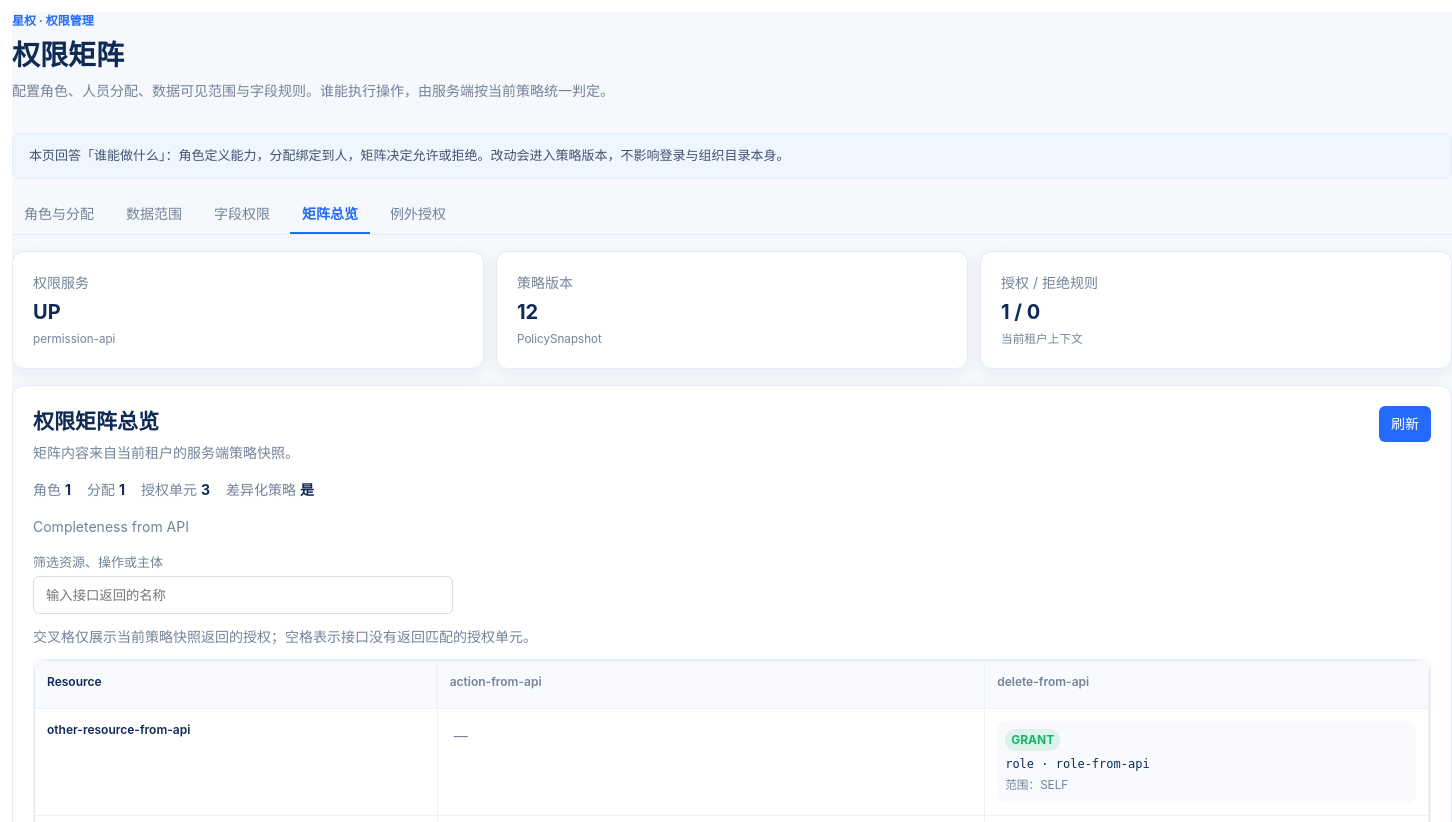
Test: P2 permissions management › renders returned grants as a searchable Resource × Action matrix without inventing codes
Expected: the table with test id "resource-action-table" shows "action-from-api", [450,674,542,689]
Expected: the table with test id "resource-action-table" shows "other-resource-from-api", [47,722,190,737]
Type "other-role-from-api" into the search field with test id "matrix-search" showing "筛选资源、操作或主体" at x=243, y=595, box [33,576,453,614]
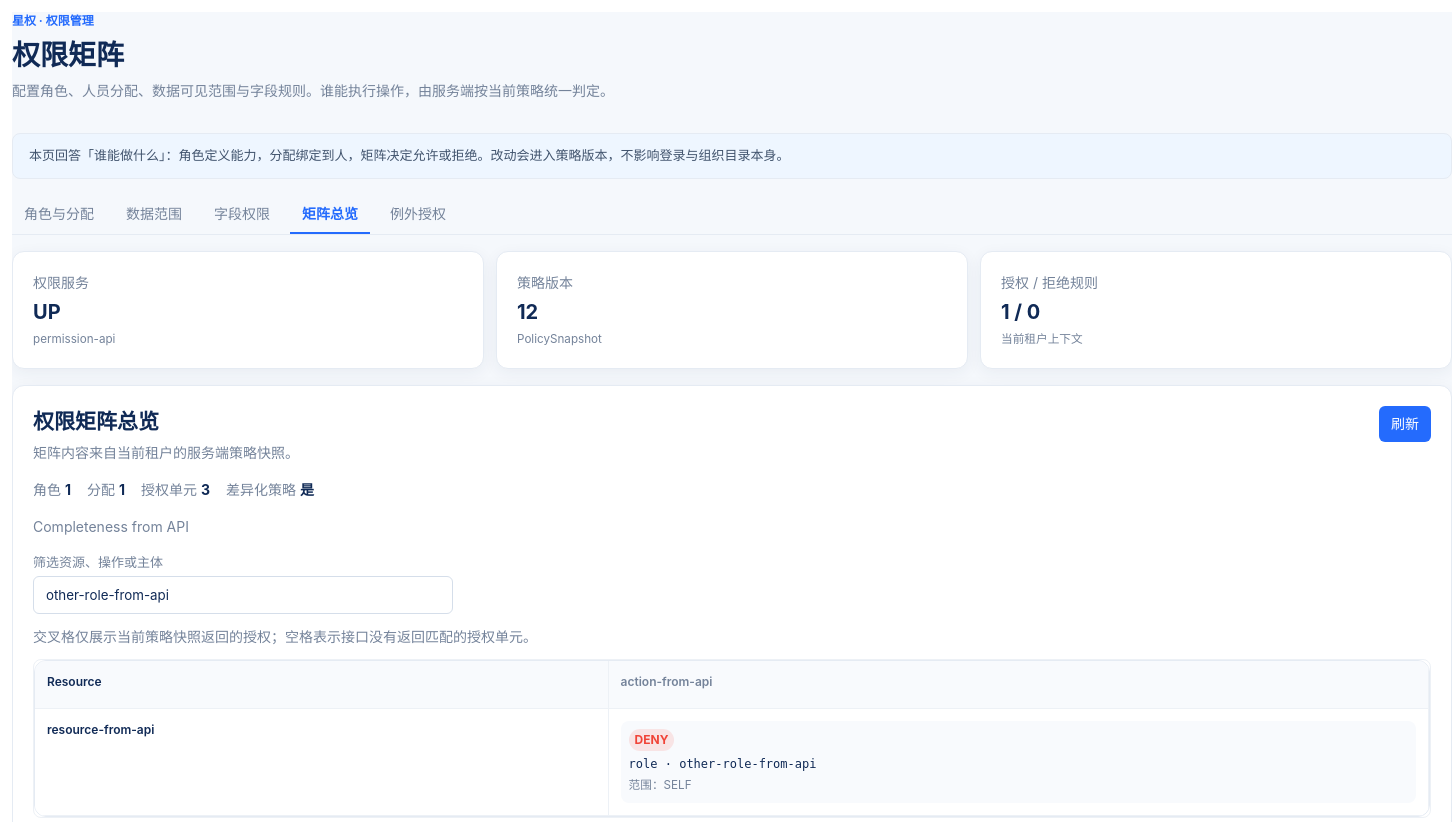
Expected: the table with test id "resource-action-table" shows "other-role-from-api", [629,757,816,771]
Now the text with test id "resource-action-table" no longer shows "GRANT"
